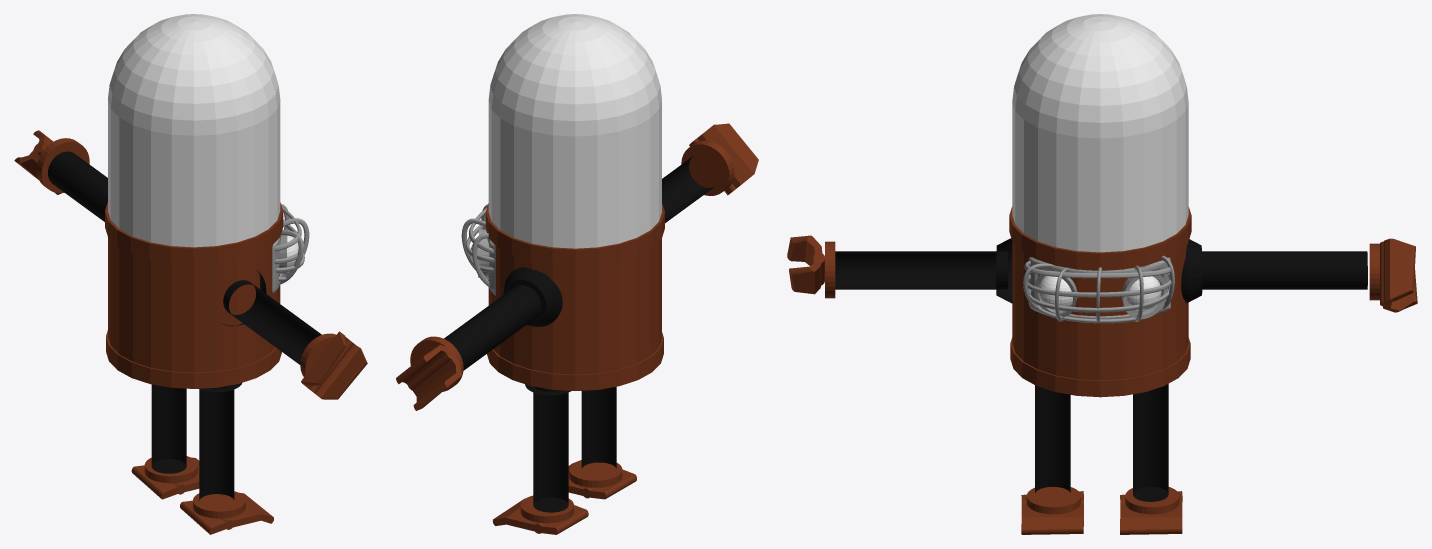
The model's file is cybob.fbx.
The picture shows the model from 3 angles, left to right: view 1: azimuth 30°, elevation 25°; view 2: azimuth 150°, elevation 25°; view 3: azimuth 270°, elevation 25°; orthographic projection. The views are drawn at different scales.
Visible parts, largest first — view 1: head, body, Circle, Circle.001, hands, Circle.002, NurbsCurve; view 2: head, body, Circle, Circle.001, hands, Circle.002, NurbsCurve; view 3: head, body, Circle.001, Circle, hands, Circle.002, NurbsCurve, face shield, EYE SOCKET.
Part boxes in pixels (x1,y1,x2,y2): head: [108, 14, 280, 247]; body: [105, 202, 283, 388]; Circle: [151, 383, 241, 500]; Circle.001: [48, 151, 321, 364]; hands: [14, 130, 367, 399]; Circle.002: [131, 456, 273, 534]; NurbsCurve: [274, 203, 309, 284]; head: [488, 14, 661, 248]; body: [485, 203, 664, 390]; Circle: [525, 384, 616, 512]; Circle.001: [444, 156, 714, 370]; hands: [396, 123, 758, 410]; Circle.002: [492, 460, 636, 534]; NurbsCurve: [461, 204, 494, 286]; head: [1012, 14, 1188, 252]; body: [1009, 206, 1191, 397]; Circle.001: [835, 238, 1367, 303]; Circle: [1035, 384, 1168, 501]; hands: [787, 235, 1417, 312]; Circle.002: [1021, 486, 1182, 534]; NurbsCurve: [1023, 255, 1174, 323]; face shield: [1028, 257, 1170, 322]; EYE SOCKET: [1034, 270, 1167, 319].
Size of the model in its own units: 230 by 618 by 716.
